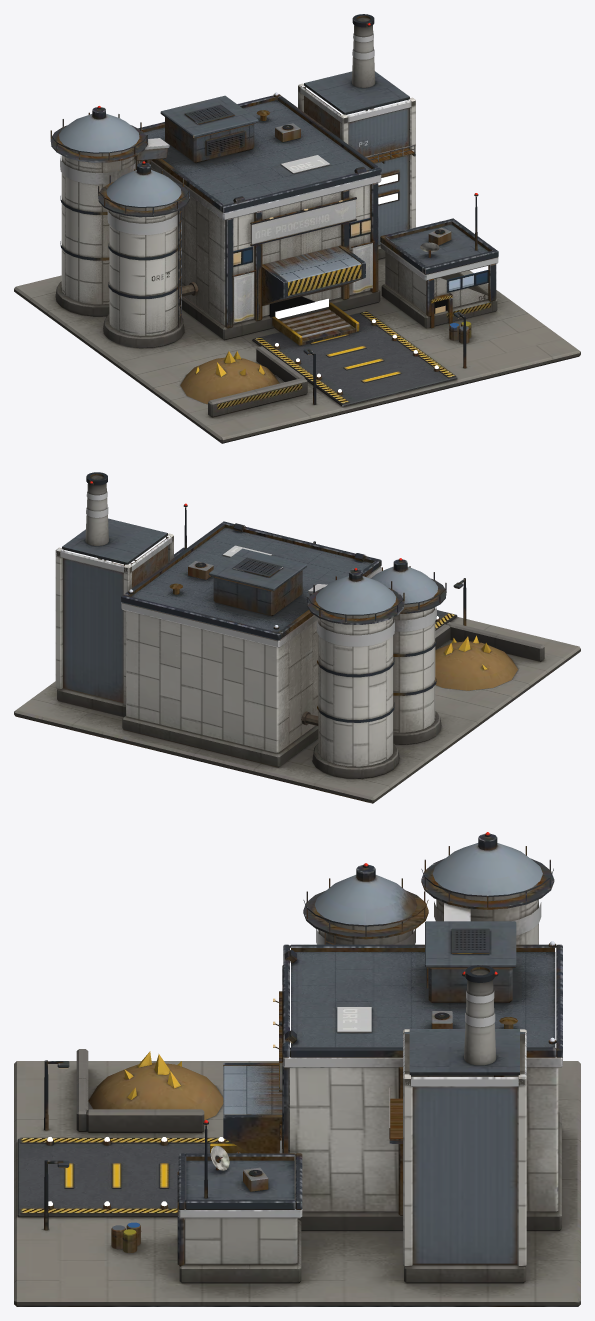
Rendered from proc.allies.glb.
The picture shows the model from 3 angles, top to bottom: view 1: azimuth 30°, elevation 25°; view 2: azimuth 150°, elevation 25°; view 3: azimuth 270°, elevation 25°; orthographic projection. The views are drawn at different scales.
Parts seen in each view (by area): view 1: root_mesh; view 2: root_mesh; view 3: root_mesh.
Boxes of the visible parts, x1,y1,x2,y2 form: root_mesh: (14, 14, 580, 443); root_mesh: (14, 472, 580, 803); root_mesh: (14, 832, 580, 1306).
Size of the model in its own units: 2.98 by 1.77 by 2.98.
3 materials, 1 textured.
